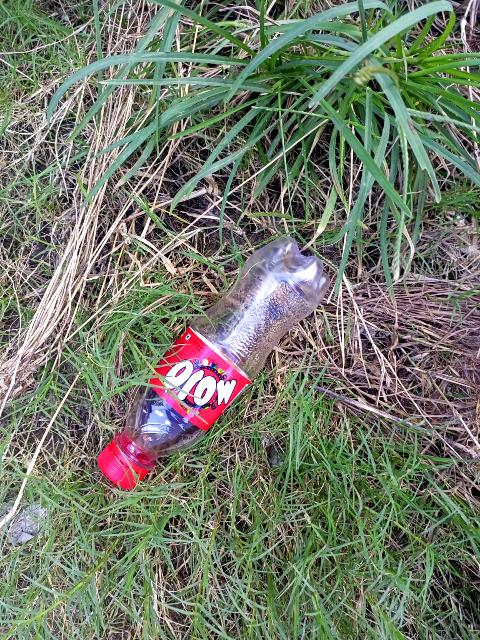bottle: (33, 204, 369, 533)
